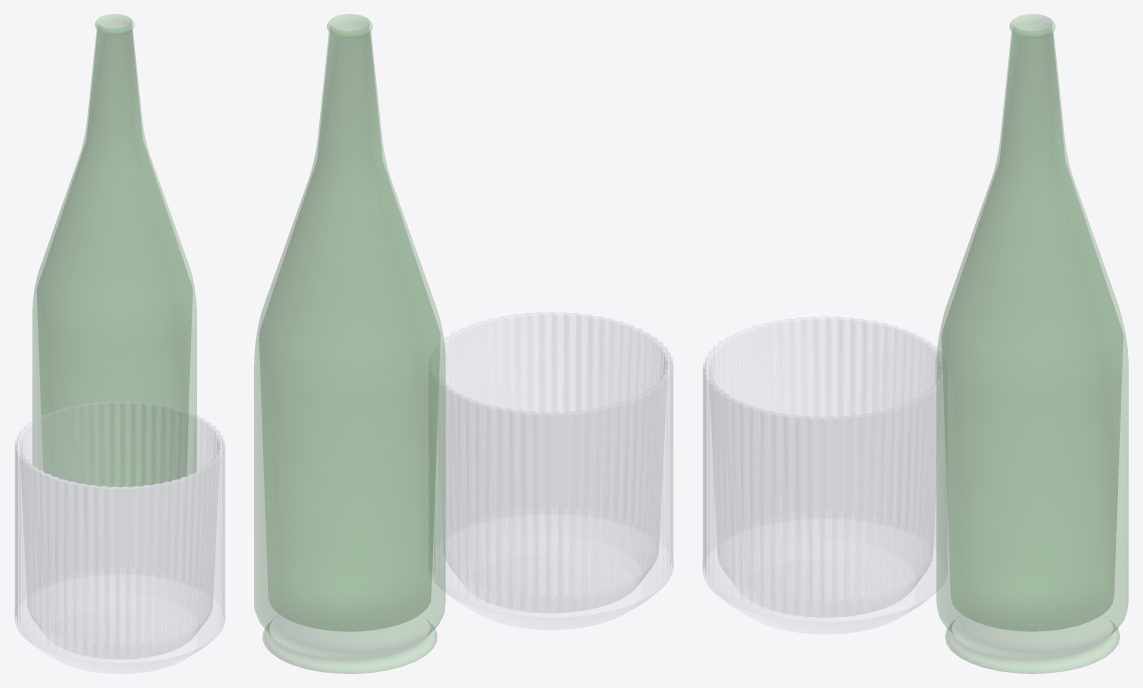
The model's file is bottle.glb.
The picture shows the model from 3 angles, left to right: view 1: azimuth 30°, elevation 25°; view 2: azimuth 150°, elevation 25°; view 3: azimuth 270°, elevation 25°; orthographic projection. The views are drawn at different scales.
Visible parts, largest first — view 1: Cylinder, glass; view 2: Cylinder, glass; view 3: Cylinder, glass.
Boxes of the visible parts, x1=… form: Cylinder: x1=32, y1=14, x2=196, y2=486; glass: x1=14, y1=400, x2=225, y2=673; Cylinder: x1=254, y1=14, x2=445, y2=673; glass: x1=432, y1=312, x2=673, y2=629; Cylinder: x1=936, y1=14, x2=1128, y2=673; glass: x1=702, y1=316, x2=947, y2=633.
Bounding box in the file's own units: 25.52 × 52.79 × 32.8.
